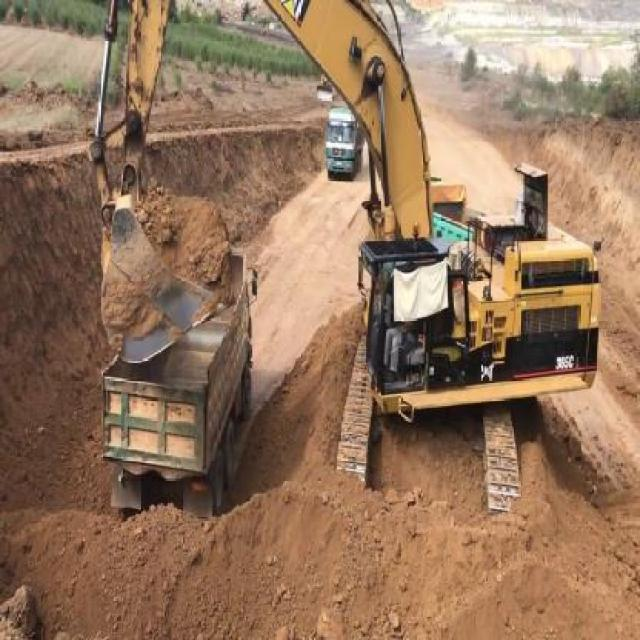Dump Truck: (97, 228, 254, 515), (325, 101, 363, 177)
Excavator: (81, 4, 604, 518)
